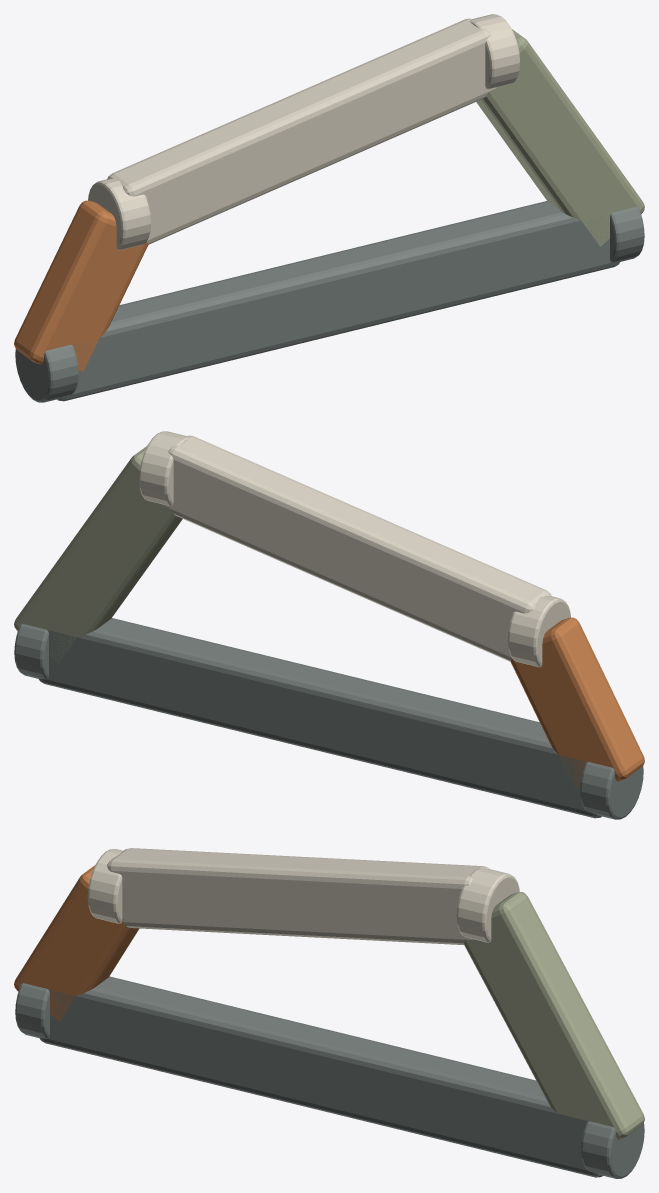
File: modular_four_bar_set.glb
3 renders of one model, top to bottom at view 1: azimuth 30°, elevation 25°; view 2: azimuth 150°, elevation 25°; view 3: azimuth 330°, elevation 25°, orthographic.
Parts seen in each view (by area): view 1: ground_support, coupler_link, rocker_link, crank_link, joint_0_collar, joint_2_collar, joint_3_collar, joint_1_collar; view 2: ground_support, coupler_link, rocker_link, crank_link, joint_0_collar, joint_2_collar, joint_3_collar, joint_1_collar; view 3: ground_support, coupler_link, rocker_link, crank_link, joint_3_collar, joint_1_collar, joint_2_collar, joint_0_collar.
Part boxes in pixels (bbox=[...]): ground_support: bbox=[57, 201, 619, 401]; coupler_link: bbox=[107, 18, 496, 244]; rocker_link: bbox=[476, 29, 644, 246]; crank_link: bbox=[14, 200, 148, 371]; joint_0_collar: bbox=[15, 345, 78, 402]; joint_2_collar: bbox=[88, 179, 151, 250]; joint_3_collar: bbox=[470, 14, 519, 89]; joint_1_collar: bbox=[610, 206, 644, 262]; ground_support: bbox=[39, 618, 601, 818]; coupler_link: bbox=[162, 435, 551, 661]; rocker_link: bbox=[14, 446, 182, 663]; crank_link: bbox=[510, 617, 644, 787]; joint_0_collar: bbox=[580, 762, 643, 819]; joint_2_collar: bbox=[507, 596, 570, 667]; joint_3_collar: bbox=[139, 431, 188, 506]; joint_1_collar: bbox=[14, 623, 48, 679]; ground_support: bbox=[39, 976, 602, 1177]; coupler_link: bbox=[107, 848, 489, 944]; rocker_link: bbox=[464, 892, 644, 1139]; crank_link: bbox=[14, 865, 139, 1021]; joint_3_collar: bbox=[456, 868, 519, 942]; joint_1_collar: bbox=[581, 1121, 644, 1178]; joint_2_collar: bbox=[87, 849, 122, 923]; joint_0_collar: bbox=[15, 983, 49, 1038].
Size of the model in its own units: 2.71 by 1.14 by 0.28.
